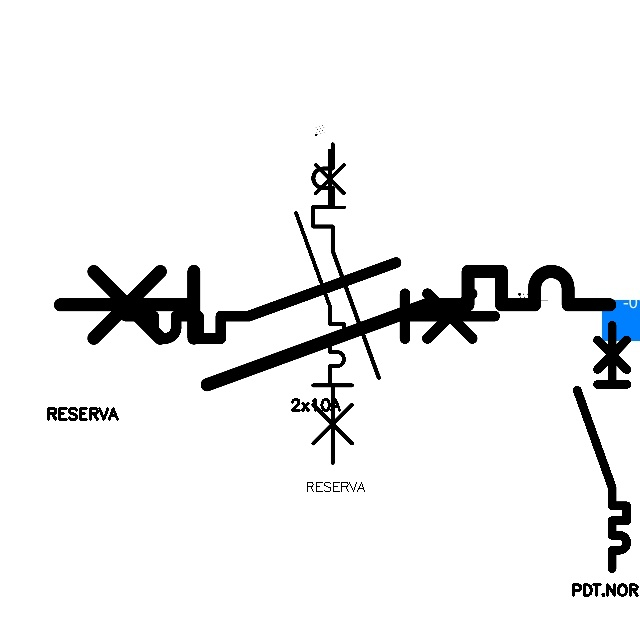interruptor_termomagnetico: (46, 257, 624, 398), (116, 253, 504, 348), (305, 136, 387, 471), (571, 319, 633, 575), (290, 144, 350, 389)
